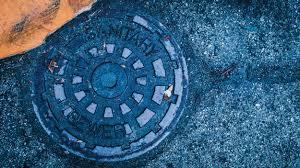closed manhole-not overflowing-: (32, 12, 189, 164)
